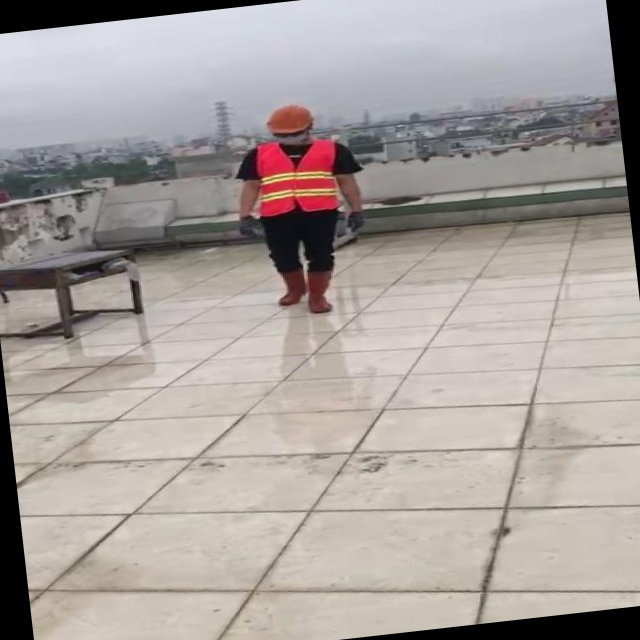boots: (300, 269, 330, 313), (327, 266, 359, 302)
gloves: (247, 201, 295, 245), (361, 207, 419, 238)
helmet: (302, 102, 351, 126)
vest: (284, 138, 370, 213)
